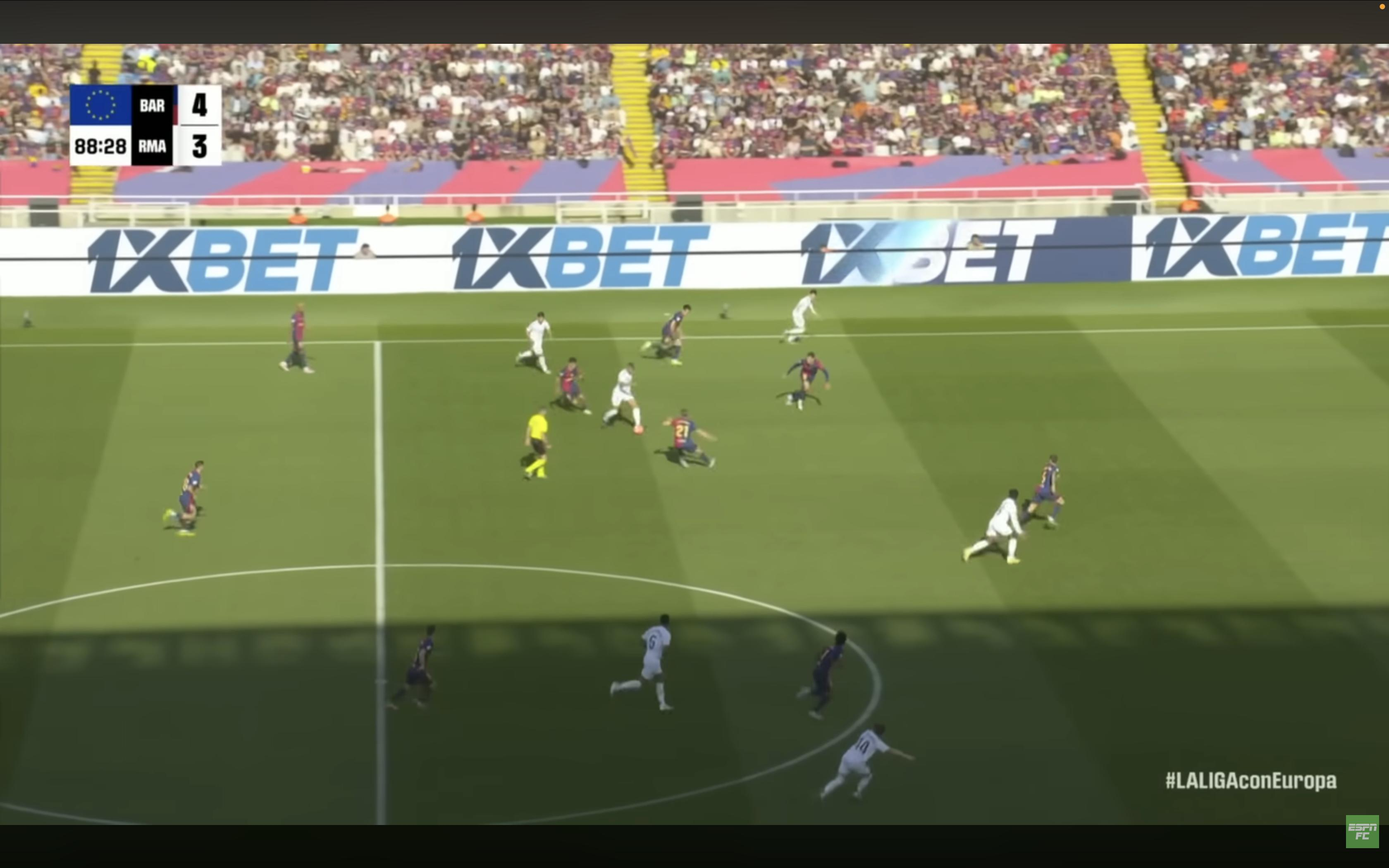ball: (632, 424, 644, 434)
player: (820, 724, 914, 801), (610, 614, 673, 711), (963, 489, 1024, 565), (798, 632, 847, 719), (386, 626, 435, 710), (663, 409, 716, 468), (163, 461, 204, 537), (642, 304, 692, 365), (1022, 454, 1064, 525), (785, 353, 831, 410), (602, 362, 642, 427), (280, 304, 313, 373), (516, 312, 551, 373), (557, 358, 591, 415), (783, 290, 819, 342)
referee: (523, 407, 550, 480)
